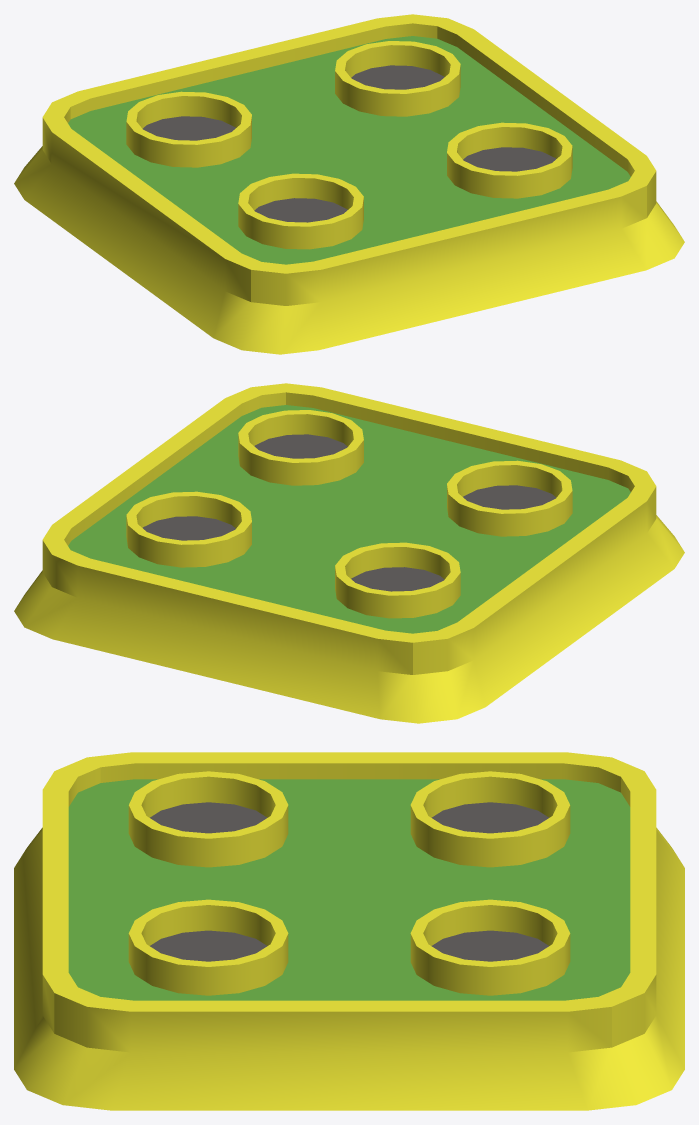
Rendered from Obstacle 26 V2.fbx.
3 views of the same model, one above another, from view 1: azimuth 30°, elevation 25°; view 2: azimuth 150°, elevation 25°; view 3: azimuth 270°, elevation 25° (orthographic). The views are drawn at different scales.
Visible parts, largest first — view 1: 06 Part 1; view 2: 06 Part 1; view 3: 06 Part 1.
Part boxes in pixels (x1,y1,x2,y2): 06 Part 1: (14, 14, 684, 354); 06 Part 1: (14, 383, 684, 723); 06 Part 1: (14, 752, 684, 1110).
Bounding box in the file's own units: 125 × 20.4 × 125.
1 material, 1 textured.
